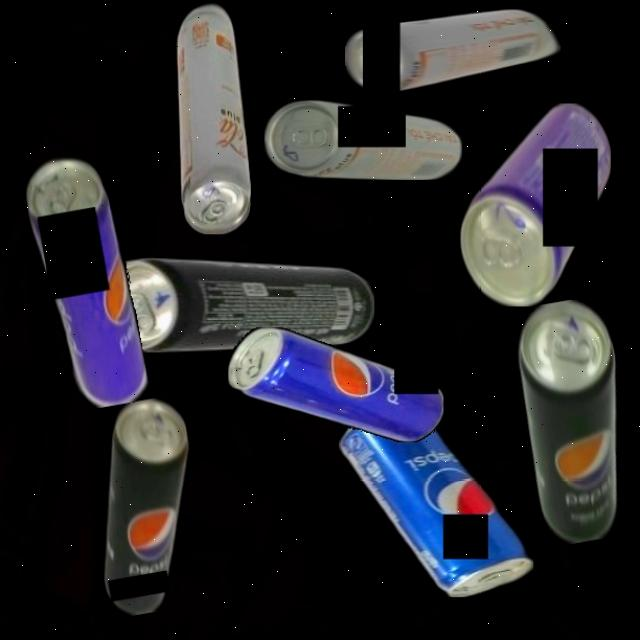debris: (339, 407, 533, 597), (20, 149, 150, 414), (506, 294, 640, 548), (75, 394, 216, 619), (459, 102, 611, 306), (96, 256, 374, 352), (227, 328, 443, 442), (345, 8, 561, 92), (176, 0, 251, 234), (265, 99, 462, 180)
